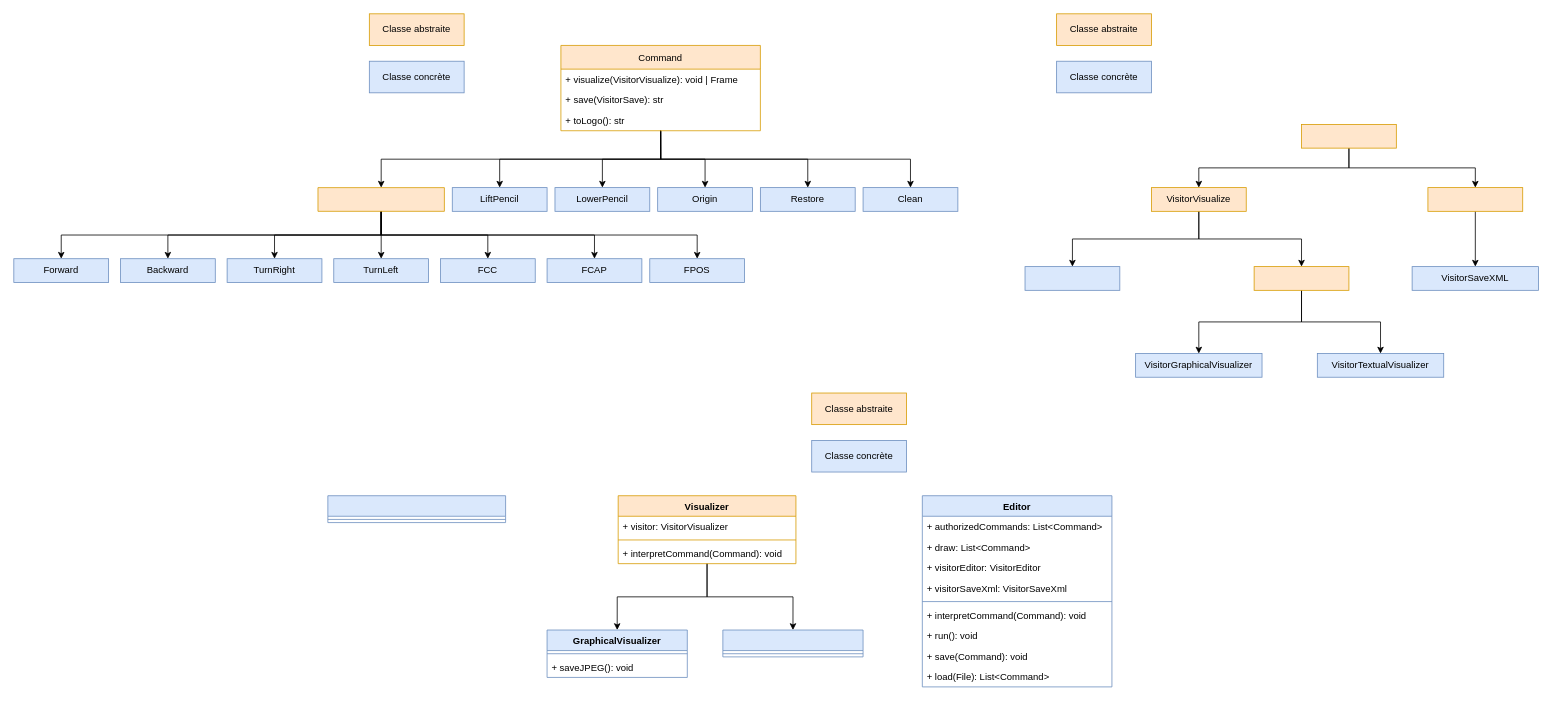
This 1552x703 diagram has some shape labels left out. The shapes that lost their labels are listed below. From the top down, each one's centre as x and y in pixels, then its label:
At (x=1348, y=136): "VisitorCommands".
At (x=380, y=199): "CommandWithParameter".
At (x=1475, y=199): "VisitorSave".
At (x=1072, y=278): "VisitorEditor".
At (x=1301, y=278): "VisitorVisualizer".
At (x=416, y=509): "CLI (TODO)".
At (x=792, y=643): "TextualVisualizer".
